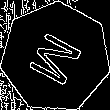M_SE: (23, 25, 88, 90)
